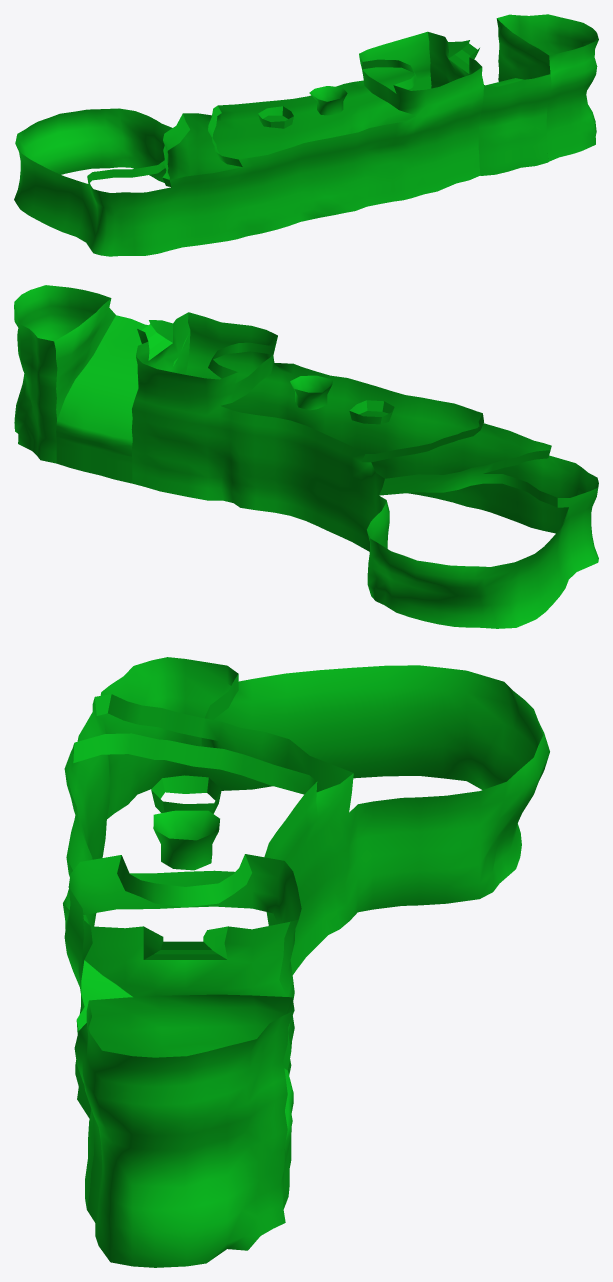
The model's file is lvl1_plat020_01.FBX.
The picture shows the model from 3 angles, top to bottom: view 1: azimuth 30°, elevation 25°; view 2: azimuth 150°, elevation 25°; view 3: azimuth 270°, elevation 25°; orthographic projection. The views are drawn at different scales.
Visible parts, largest first — view 1: lvl1_plat_020; view 2: lvl1_plat_020; view 3: lvl1_plat_020.
Part boxes in pixels (x1,y1,x2,y2): lvl1_plat_020: [14, 14, 598, 256]; lvl1_plat_020: [14, 285, 598, 628]; lvl1_plat_020: [63, 657, 549, 1267].
Size of the model in its own units: 7433 by 3098 by 1588.
